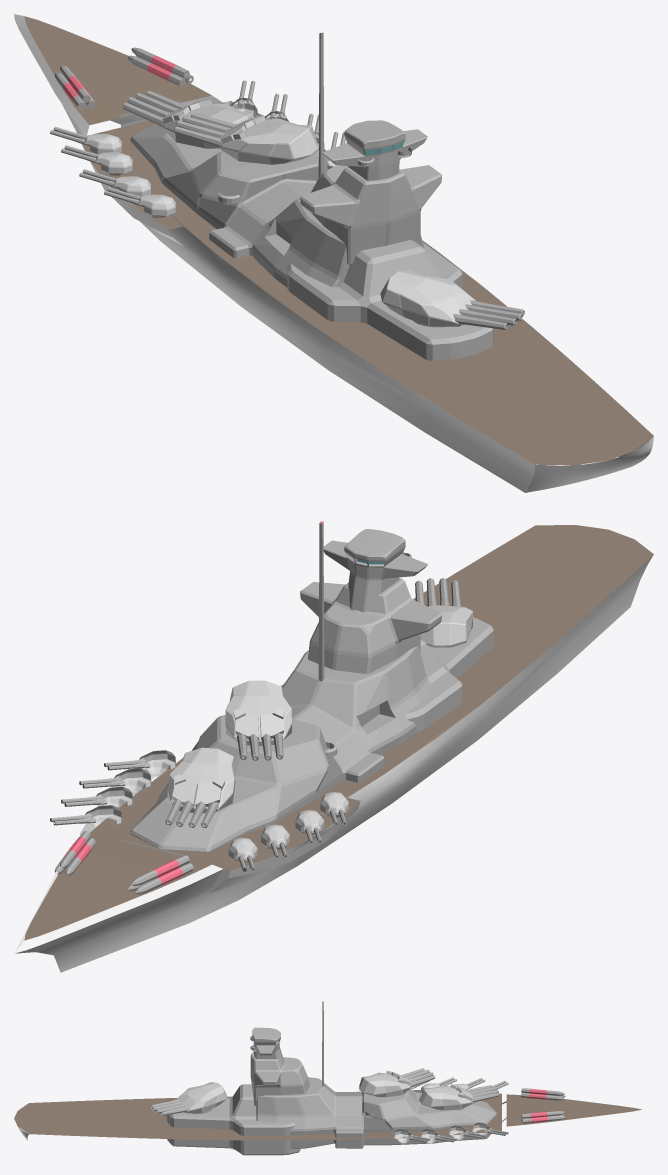
Rendered from boat.glb.
The picture shows the model from 3 angles, top to bottom: view 1: azimuth 30°, elevation 25°; view 2: azimuth 150°, elevation 25°; view 3: azimuth 270°, elevation 25°; orthographic projection. The views are drawn at different scales.
Parts seen in each view (by area): view 1: nurbsToPoly24, polySurface148, nurbsToPoly1, pCube9, pCube8, nurbsToPoly13, nurbsToPoly3, polySurface123, pCube10, polySurface153, nurbsToPoly25, polySurface118 (+3 smaller); view 2: polySurface148, nurbsToPoly1, nurbsToPoly24, pCube8, nurbsToPoly13, nurbsToPoly3, pCube10, pCube9, polySurface118, polySurface123, nurbsToPoly4, polySurface153 (+3 smaller); view 3: polySurface148, nurbsToPoly24, pCube9, nurbsToPoly13, nurbsToPoly3, pCube8, polySurface118, polySurface123, polySurface153, pCube10.
Part boxes in pixels (x1,y1,x2,y2): nurbsToPoly24: (374, 327, 653, 465); polySurface148: (130, 32, 424, 287); nurbsToPoly1: (63, 106, 535, 492); pCube9: (286, 239, 493, 360); pCube8: (300, 165, 441, 264); nurbsToPoly13: (87, 102, 531, 365); nurbsToPoly3: (24, 16, 211, 125); polySurface123: (219, 115, 318, 164); pCube10: (322, 120, 427, 180); polySurface153: (380, 270, 475, 326); nurbsToPoly25: (525, 436, 653, 492); polySurface118: (161, 99, 255, 148); polySurface148: (130, 521, 432, 874); nurbsToPoly1: (15, 554, 653, 972); nurbsToPoly24: (413, 525, 653, 662); pCube8: (300, 578, 441, 673); nurbsToPoly13: (90, 652, 531, 868); nurbsToPoly3: (24, 835, 211, 940); pCube10: (323, 529, 427, 612); pCube9: (405, 617, 493, 732); polySurface118: (167, 747, 235, 813); polySurface123: (225, 680, 292, 746); nurbsToPoly4: (14, 864, 222, 953); polySurface153: (420, 605, 472, 647); polySurface148: (256, 1001, 496, 1148); nurbsToPoly24: (14, 1098, 181, 1139); pCube9: (166, 1084, 300, 1155); nurbsToPoly13: (181, 1095, 501, 1140); nurbsToPoly3: (506, 1094, 641, 1126); pCube8: (250, 1051, 309, 1106); polySurface118: (419, 1084, 473, 1110); polySurface123: (359, 1070, 411, 1097); polySurface153: (176, 1082, 226, 1113); pCube10: (252, 1027, 284, 1065).
Size of the model in its own units: 9.97 by 10.23 by 42.27.
